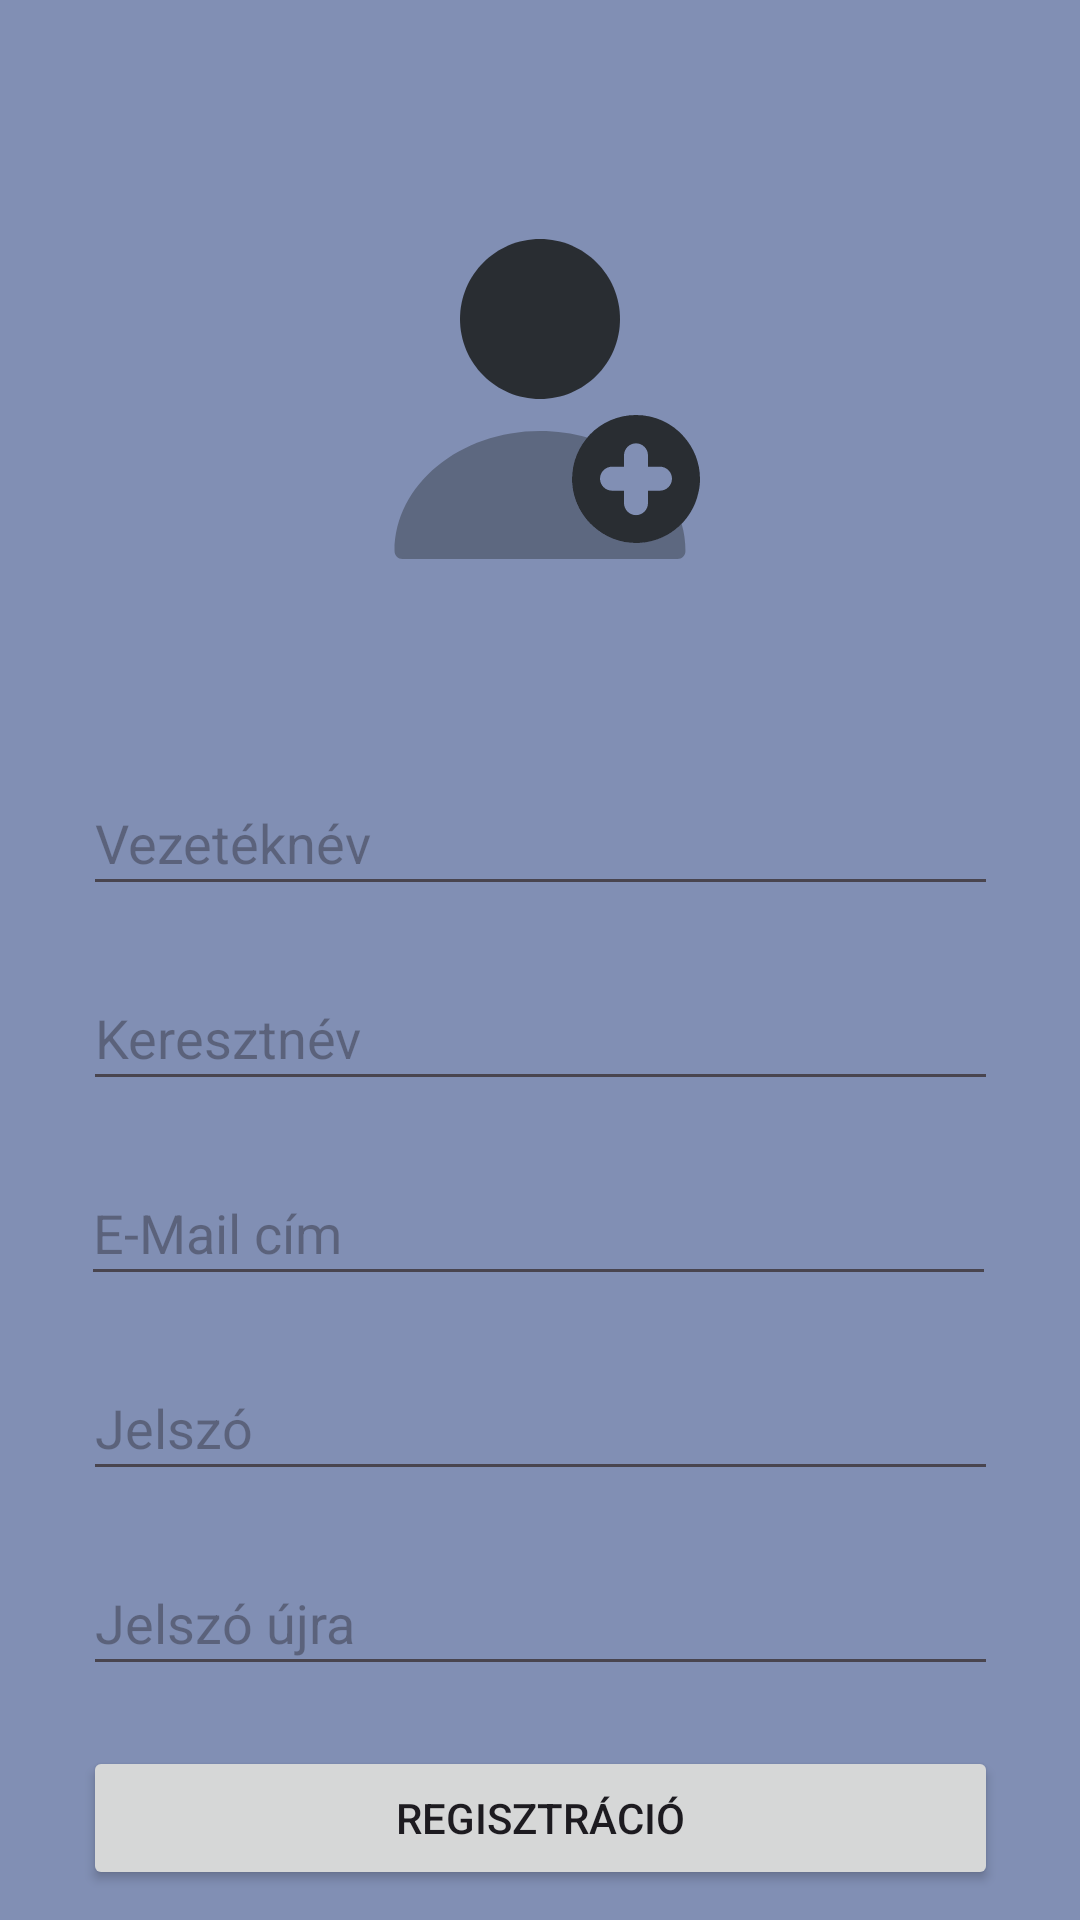

Screen size 1080 x 1920. Icon name, then its box in pixels as rect(x1, y1, x2, y2):
registration: rect(394, 239, 700, 559)
